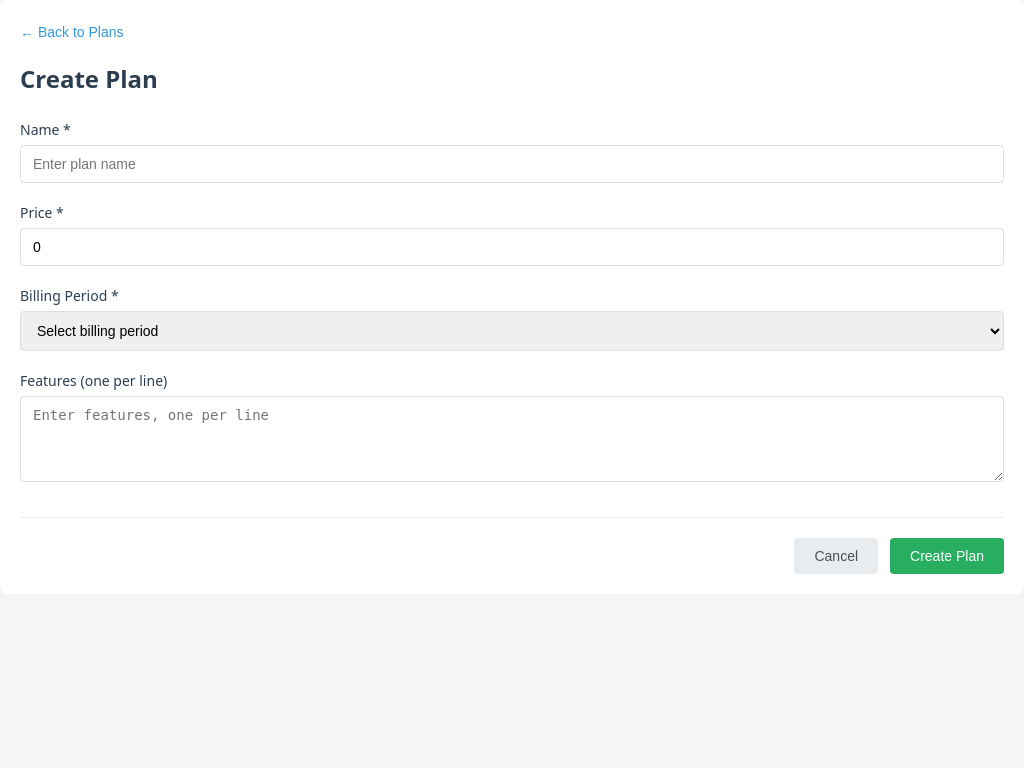
Test: PlanForm.vue › Create Mode › validates required fields before submit
The image size is (1024, 768).
# Try to submit empty form
Click the button with test id "submit-button". click: click(947, 556)
box: x1=890 y1=538 x2=1004 y2=574
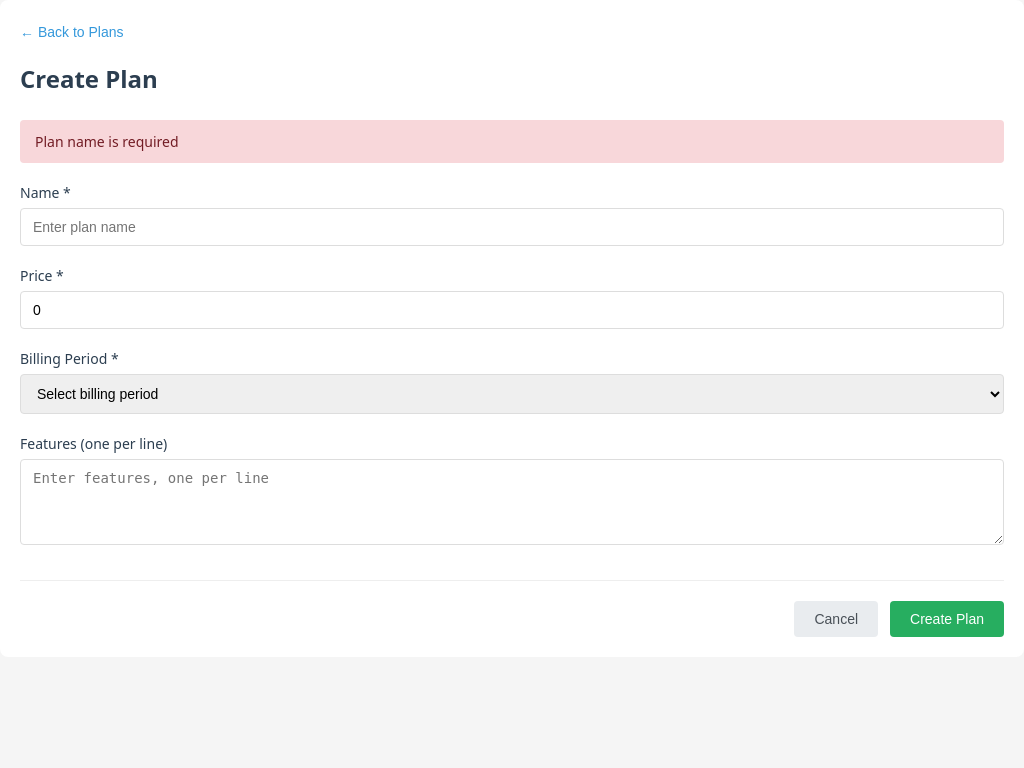
Expected: the text "Plan name is required" is shown, x1=20 y1=120 x2=1004 y2=163
